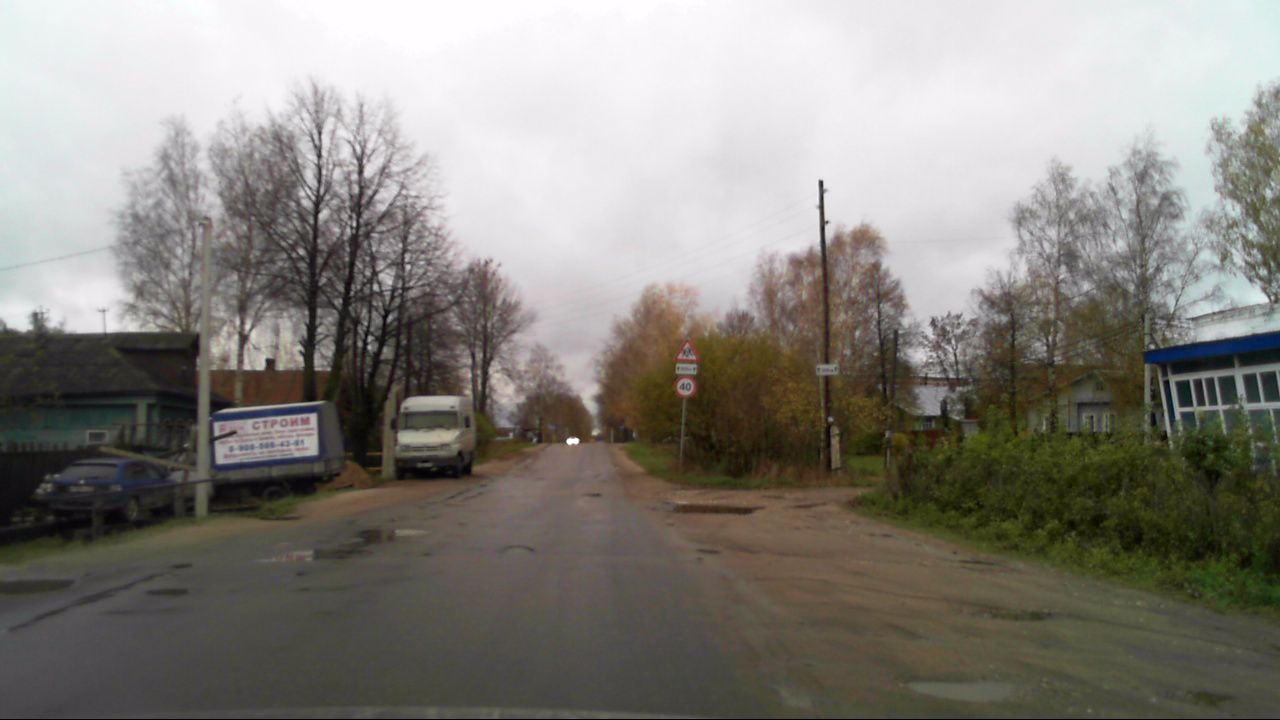speed_warning_40: (673, 375, 698, 398)
